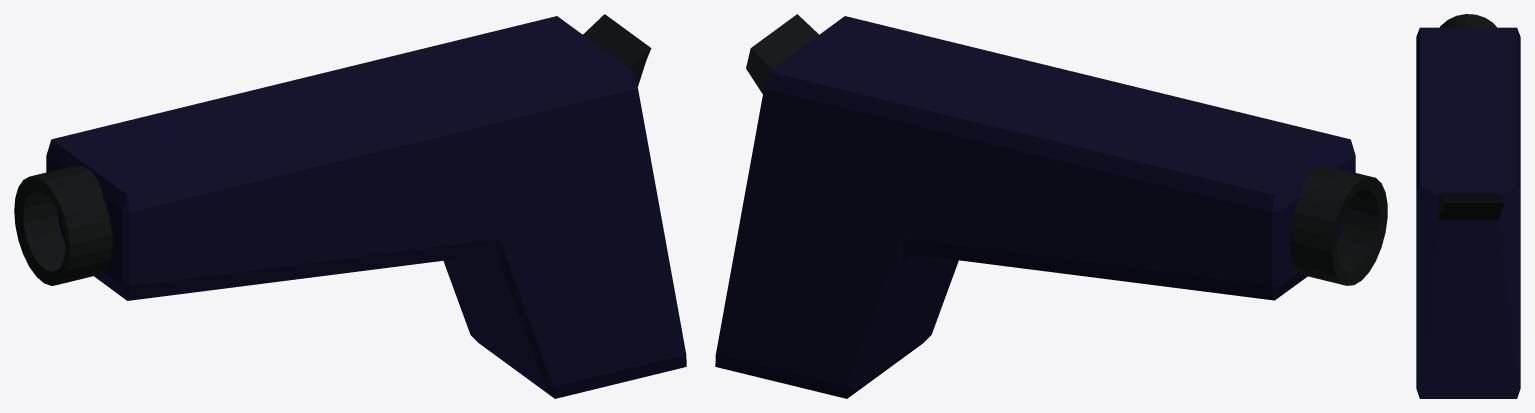
Rendered from pistol.glb.
The picture shows the model from 3 angles, left to right: view 1: azimuth 30°, elevation 25°; view 2: azimuth 150°, elevation 25°; view 3: azimuth 270°, elevation 25°; orthographic projection. The views are drawn at different scales.
Parts seen in each view (by area): view 1: Cube; view 2: Cube; view 3: Cube.
Part boxes in pixels (x1,y1,x2,y2): Cube: (14, 14, 686, 398); Cube: (715, 14, 1387, 398); Cube: (1416, 14, 1520, 398).
Size of the model in its own units: 6.48 by 3.2 by 1.51.
